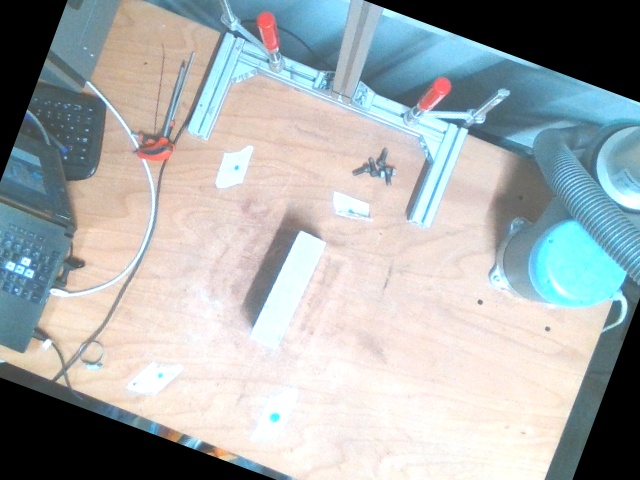brick-side: (247, 230, 325, 350)
